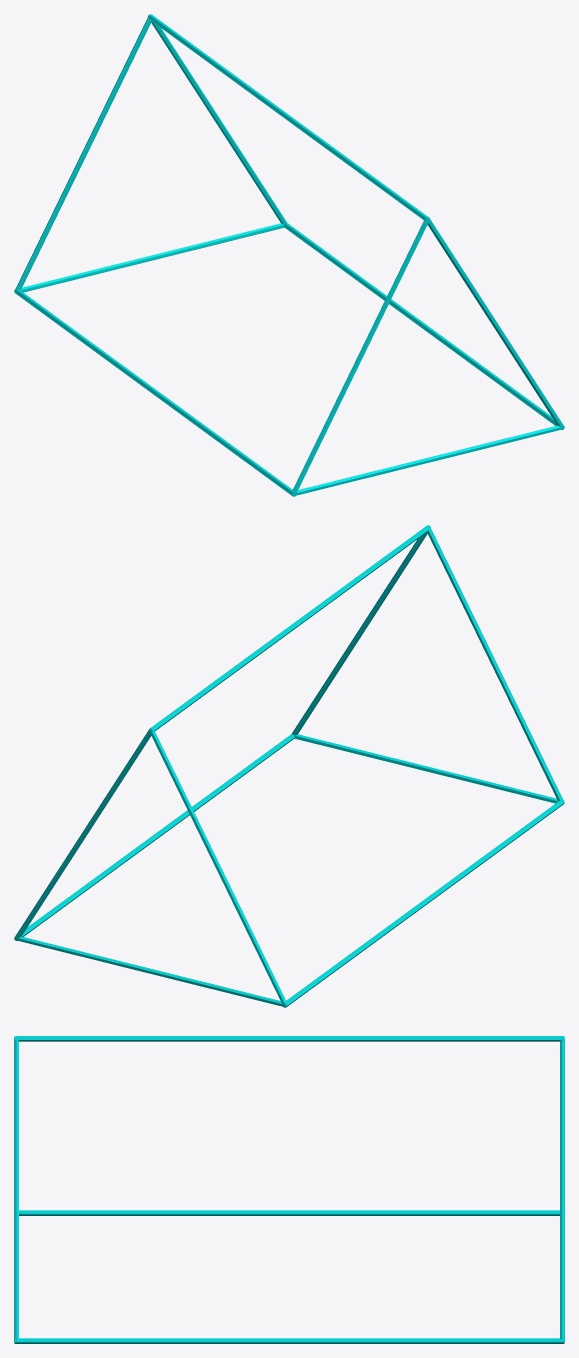
The model's file is tri_prism_net.fbx.
3 renders of one model, top to bottom at view 1: azimuth 30°, elevation 25°; view 2: azimuth 150°, elevation 25°; view 3: azimuth 270°, elevation 25°, orthographic.
Parts seen in each view (by area): view 1: MASH2_ReproMesh; view 2: MASH2_ReproMesh; view 3: MASH2_ReproMesh.
Boxes of the visible parts, x1,y1,x2,y2 form: MASH2_ReproMesh: [14, 14, 564, 496]; MASH2_ReproMesh: [14, 525, 564, 1007]; MASH2_ReproMesh: [14, 1036, 564, 1343].
Bounding box in the file's own units: 12.14 × 10.47 × 21.47.
